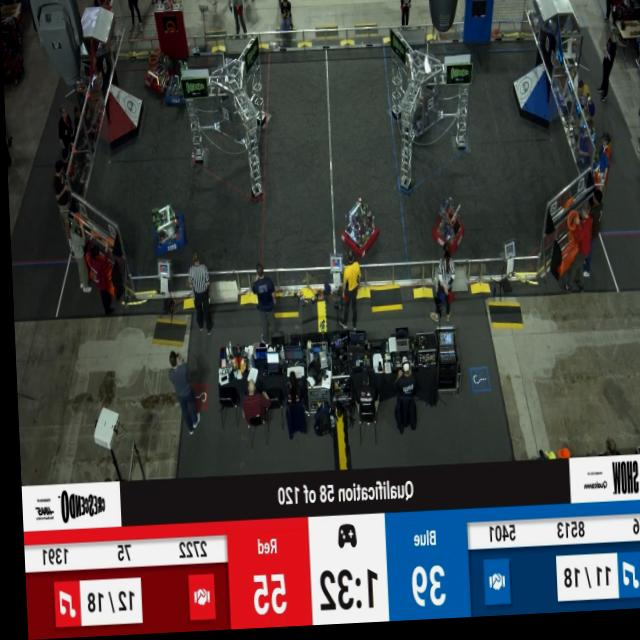Robot: (336, 198, 380, 267), (393, 79, 434, 144), (428, 199, 464, 260), (151, 203, 185, 260), (164, 61, 190, 114), (144, 51, 169, 98)
